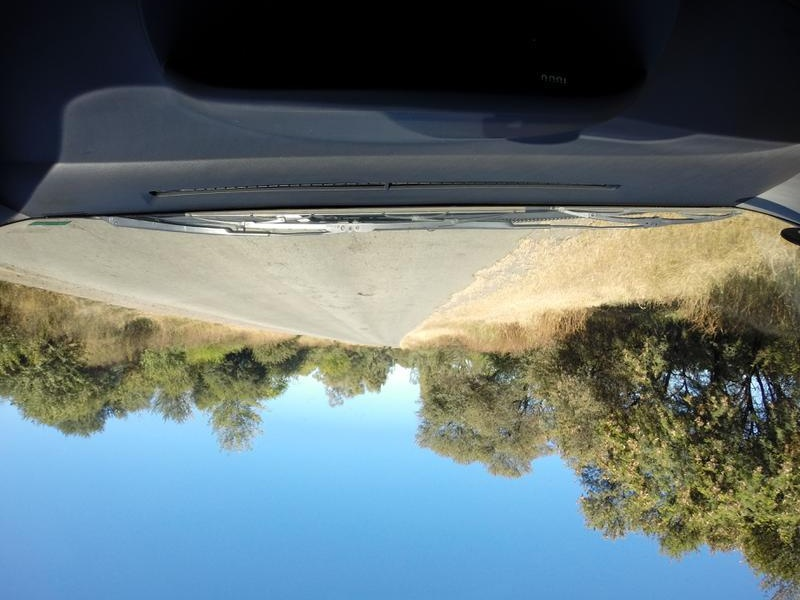pothole: (354, 283, 375, 303)
